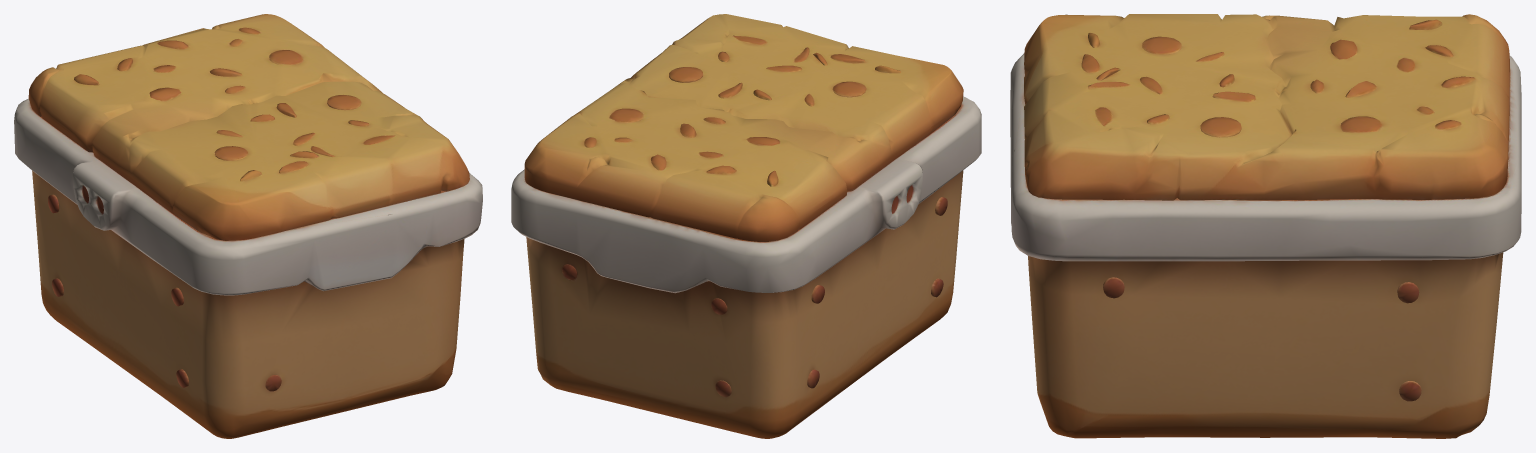
File: cracker.glb
The picture shows the model from 3 angles, left to right: view 1: azimuth 30°, elevation 25°; view 2: azimuth 150°, elevation 25°; view 3: azimuth 270°, elevation 25°; orthographic projection. The views are drawn at different scales.
Parts seen in each view (by area): view 1: tripo_node_794b7a83-84b7-4a03-b85c-b14642a8c521; view 2: tripo_node_794b7a83-84b7-4a03-b85c-b14642a8c521; view 3: tripo_node_794b7a83-84b7-4a03-b85c-b14642a8c521.
Boxes of the visible parts, x1,y1,x2,y2 form: tripo_node_794b7a83-84b7-4a03-b85c-b14642a8c521: (14,14,482,438); tripo_node_794b7a83-84b7-4a03-b85c-b14642a8c521: (511,14,981,438); tripo_node_794b7a83-84b7-4a03-b85c-b14642a8c521: (1010,14,1521,438).
Size of the model in its own units: 0.8218 by 0.6646 by 0.9995.
1 material, 1 textured.
